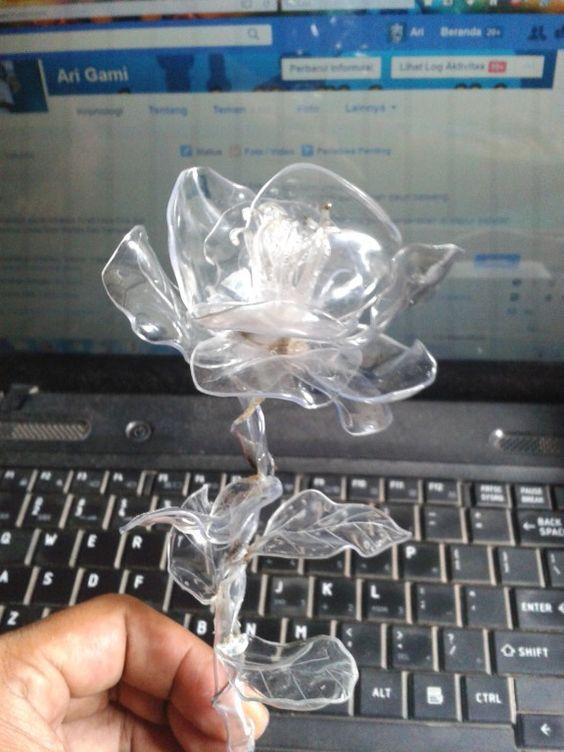PETE: (99, 157, 463, 752)
